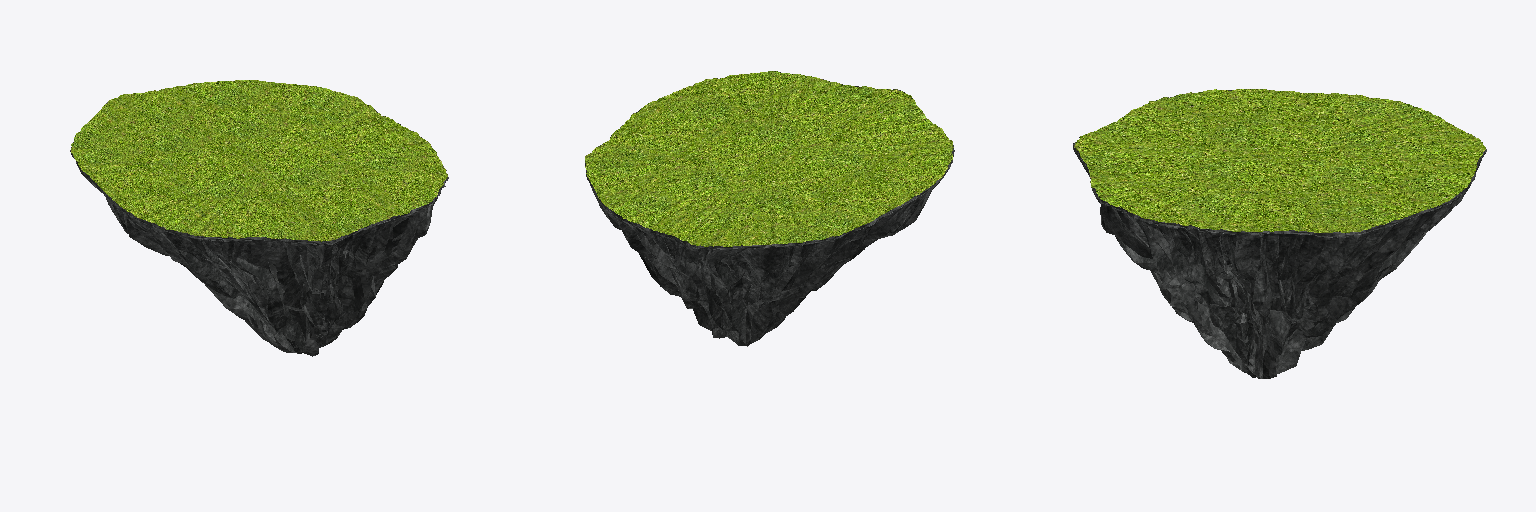
The picture shows the model from 3 angles: view 1: azimuth 30°, elevation 25°; view 2: azimuth 150°, elevation 25°; view 3: azimuth 270°, elevation 25°; orthographic projection.
Parts seen in each view (by area): view 1: Cone.001; view 2: Cone.001; view 3: Cone.001.
Part boxes in pixels (x1,y1,x2,y2): Cone.001: (70,80,448,356); Cone.001: (585,71,954,346); Cone.001: (1073,89,1486,378).
Bounding box in the file's own units: 2.01 × 1.28 × 2.42.
Materials: 1 (1 with a texture image).